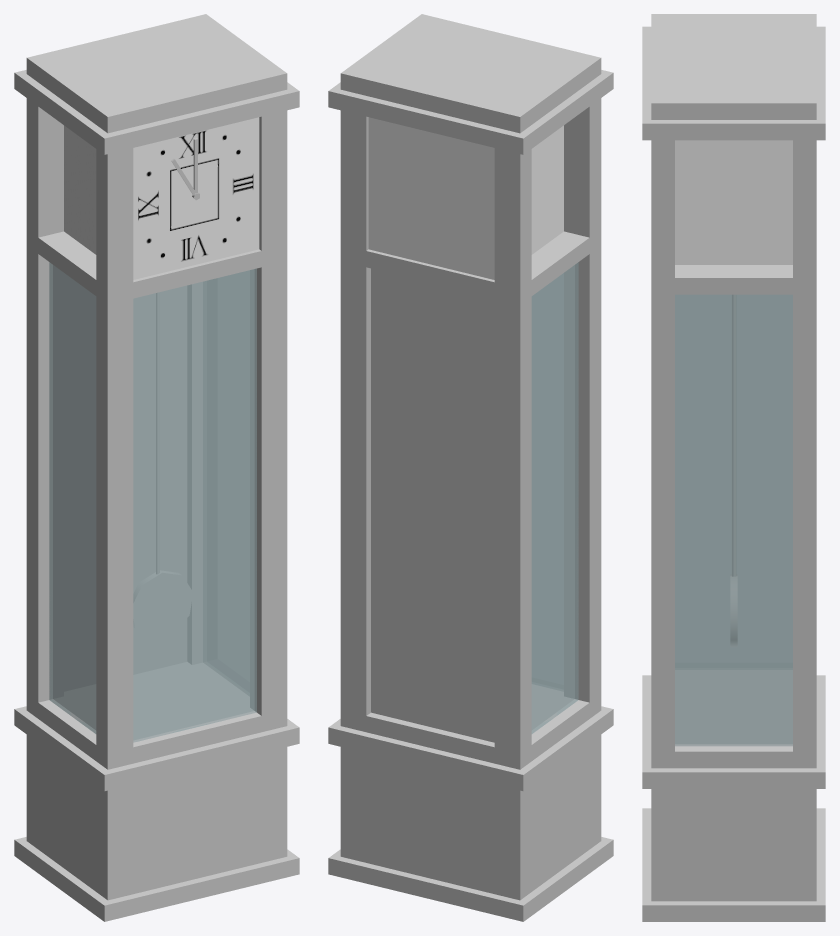
File: Clock.FBX
The picture shows the model from 3 angles, left to right: view 1: azimuth 30°, elevation 25°; view 2: azimuth 150°, elevation 25°; view 3: azimuth 270°, elevation 25°; orthographic projection.
Parts seen in each view (by area): view 1: Clock, Clock_Glass, ClockBox, ClockBox04; view 2: Clock, Clock_Glass, ClockBox; view 3: Clock, Clock_Glass, ClockBox, ClockBox04.
Boxes of the visible parts, x1,y1,x2,y2 form: Clock: (14, 14, 299, 921); Clock_Glass: (49, 262, 256, 742); ClockBox: (64, 117, 259, 279); ClockBox04: (133, 292, 192, 638); Clock: (328, 14, 613, 921); Clock_Glass: (531, 262, 578, 733); ClockBox: (368, 117, 563, 279); Clock: (642, 14, 825, 921); Clock_Glass: (675, 294, 792, 746); ClockBox: (675, 140, 792, 264); ClockBox04: (730, 295, 737, 646).
Size of the model in its own units: 0.25 by 0.9797 by 0.2.
